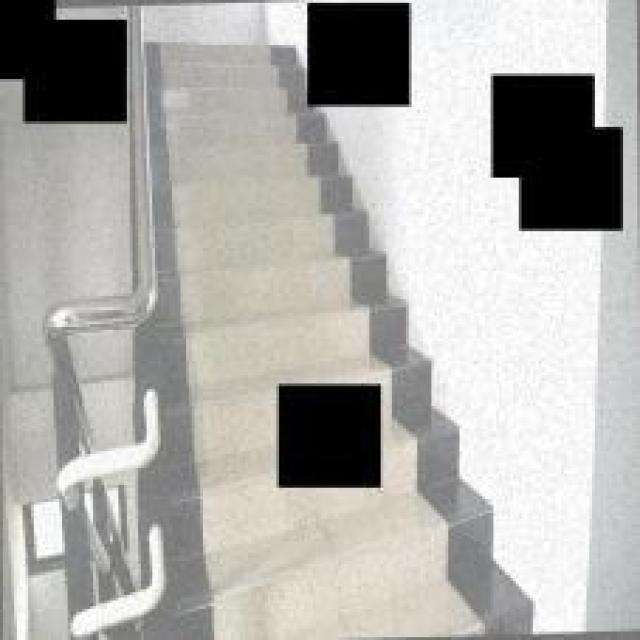upstair: (151, 122, 402, 348)
